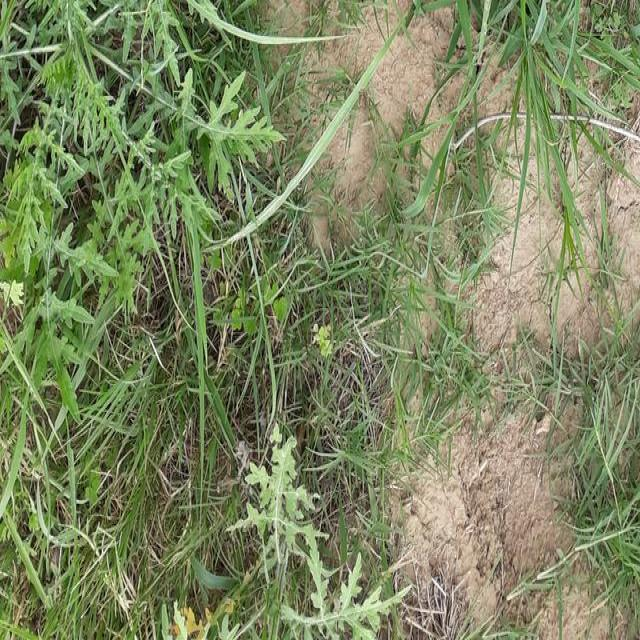weed: (8, 329, 354, 640), (311, 216, 488, 509), (457, 1, 640, 206), (556, 333, 640, 614)
